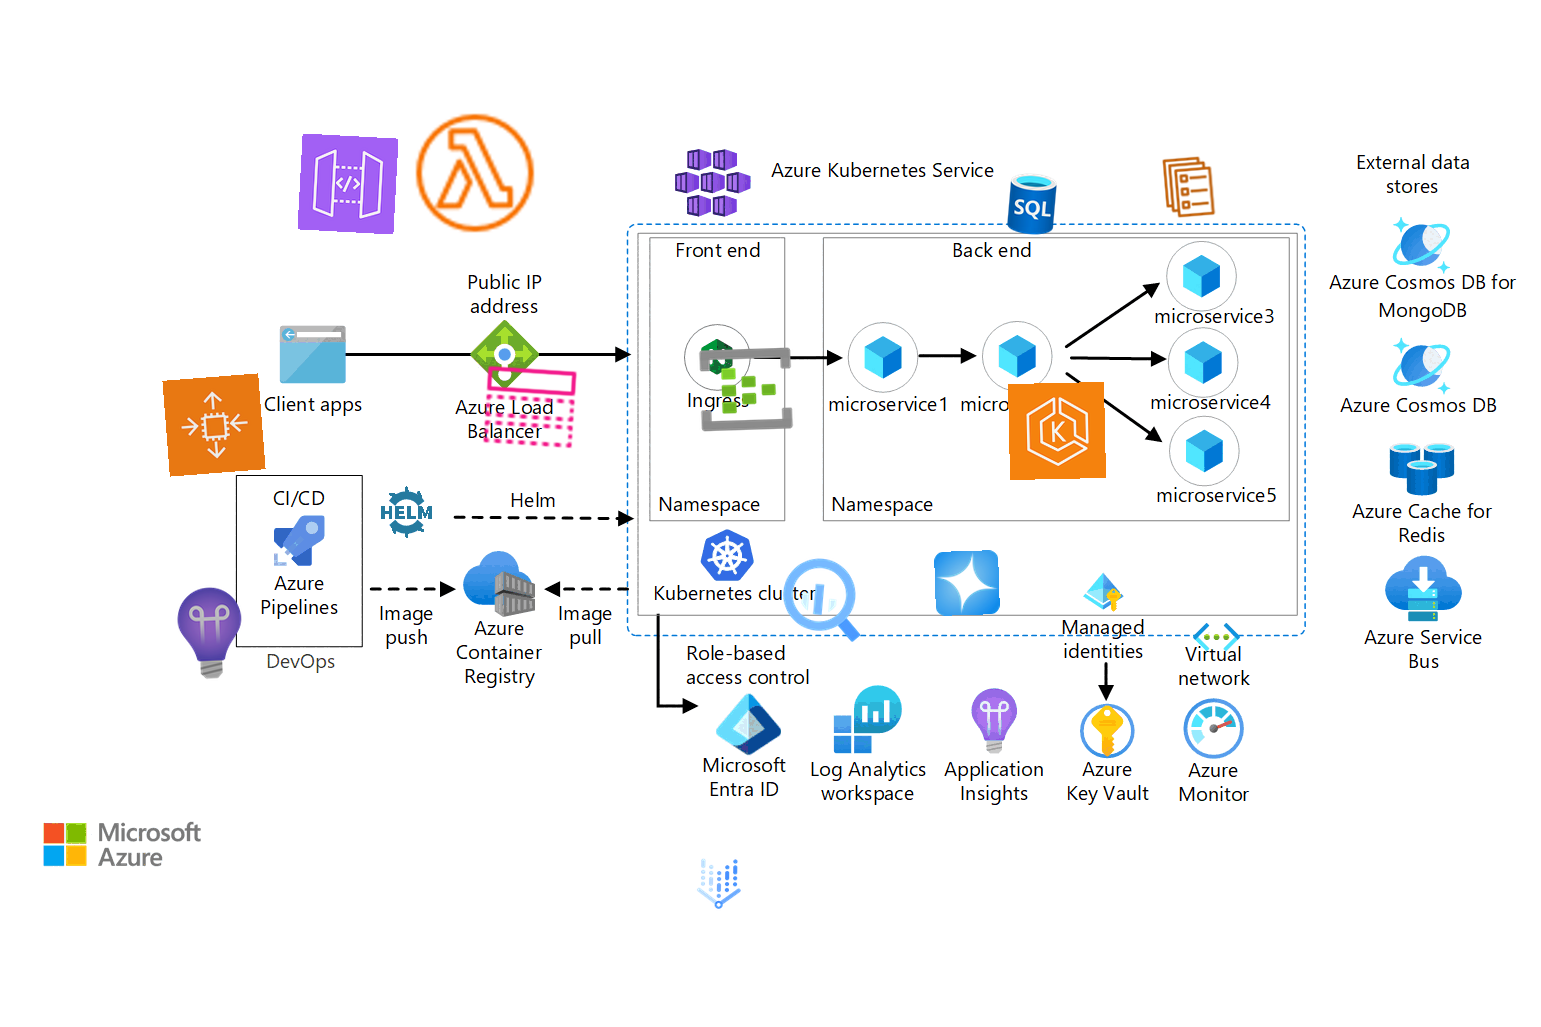aws_amazon_api_gateway: (297, 133, 399, 235)
aws_amazon_ec2_auto_scaling: (162, 373, 266, 477)
aws_amazon_elastic_kubernetes_service: (1007, 381, 1107, 481)
aws_elastic_container_service_service: (1154, 152, 1224, 222)
aws_lambda_lambda_function: (410, 108, 540, 238)
aws_simple_notification_service_topic: (478, 355, 582, 458)
azure_application_insights: (159, 582, 261, 684)
azure_event_hubs: (695, 339, 796, 439)
azure_openai: (934, 550, 1000, 616)
azure_sql_database: (997, 168, 1067, 240)
gcp_bigquery: (771, 547, 875, 651)
gcp_vertex_ai: (686, 850, 752, 917)
